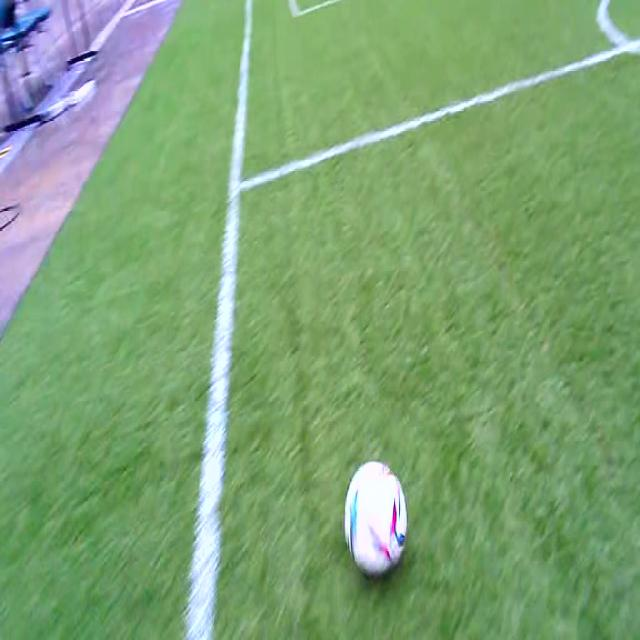ball: (346, 461, 408, 576)
